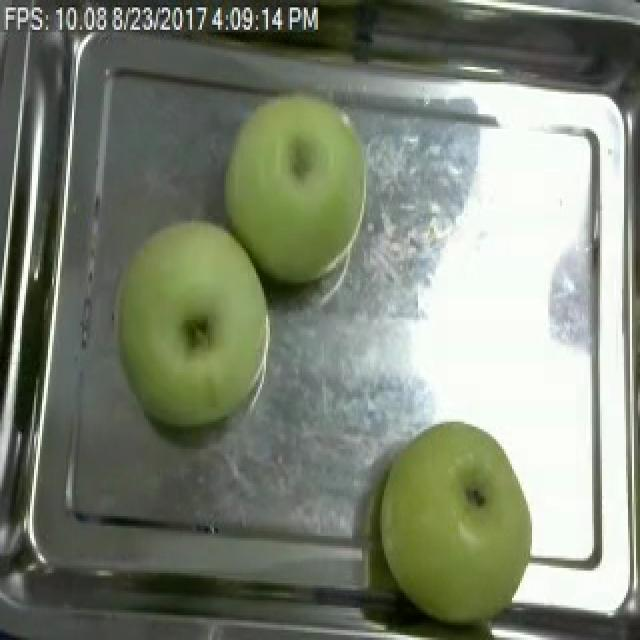50-_ripeness: (366, 409, 544, 640), (110, 220, 265, 444), (208, 87, 374, 286)
